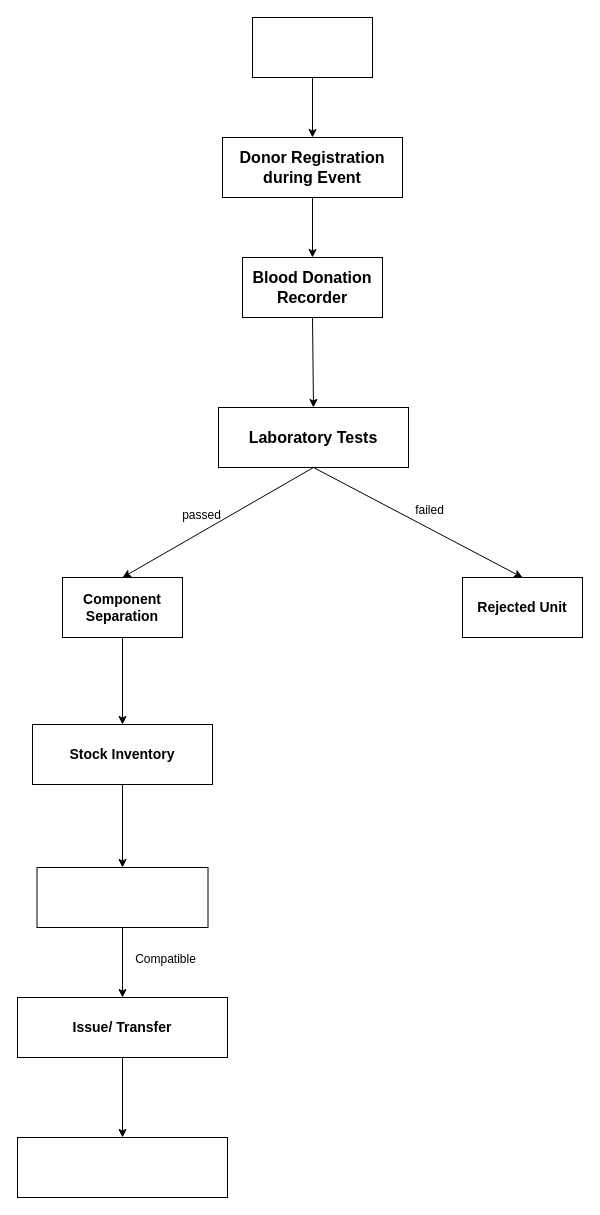
The diagram is 600 pixels wide and 1215 high, and some of its shapes have lost their labels. The shapes that lost their labels are listed below. From the top down, each one's centre as x and y in pixels, then its label:
the point at 312,47: Event Created
the point at 122,897: Cross-Match
the point at 122,1167: Invoice/ Billing
